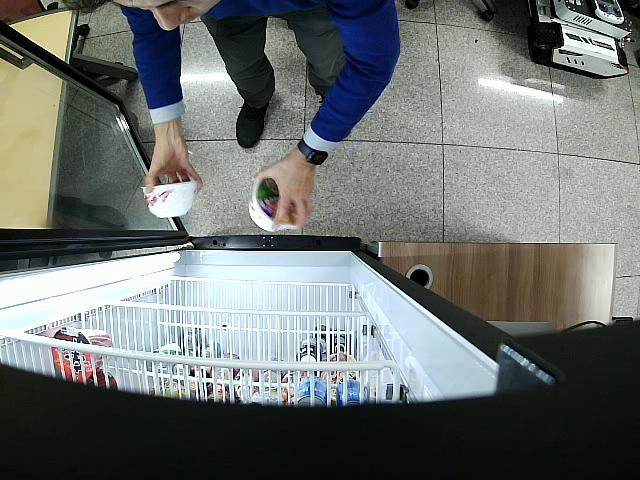00_hand: (255, 148, 315, 230), (145, 132, 203, 193)
09_yukGaeJang: (248, 179, 299, 232), (141, 179, 197, 217)
